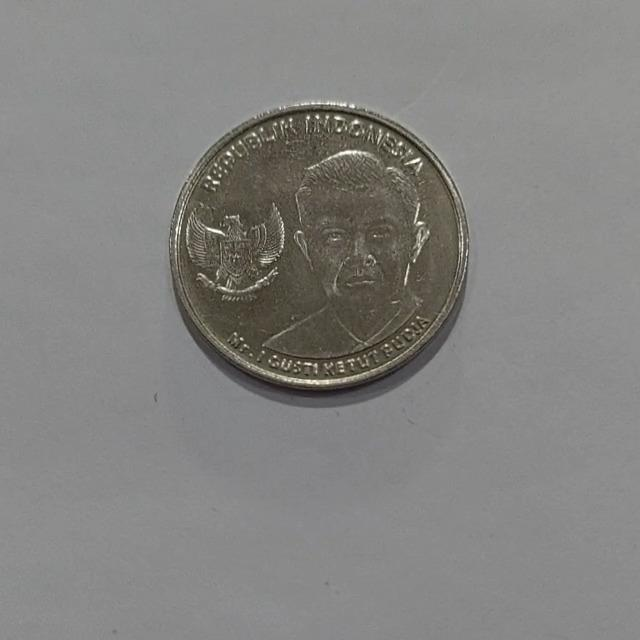Rp100: (167, 99, 471, 393), (256, 146, 433, 359), (182, 198, 286, 303)
